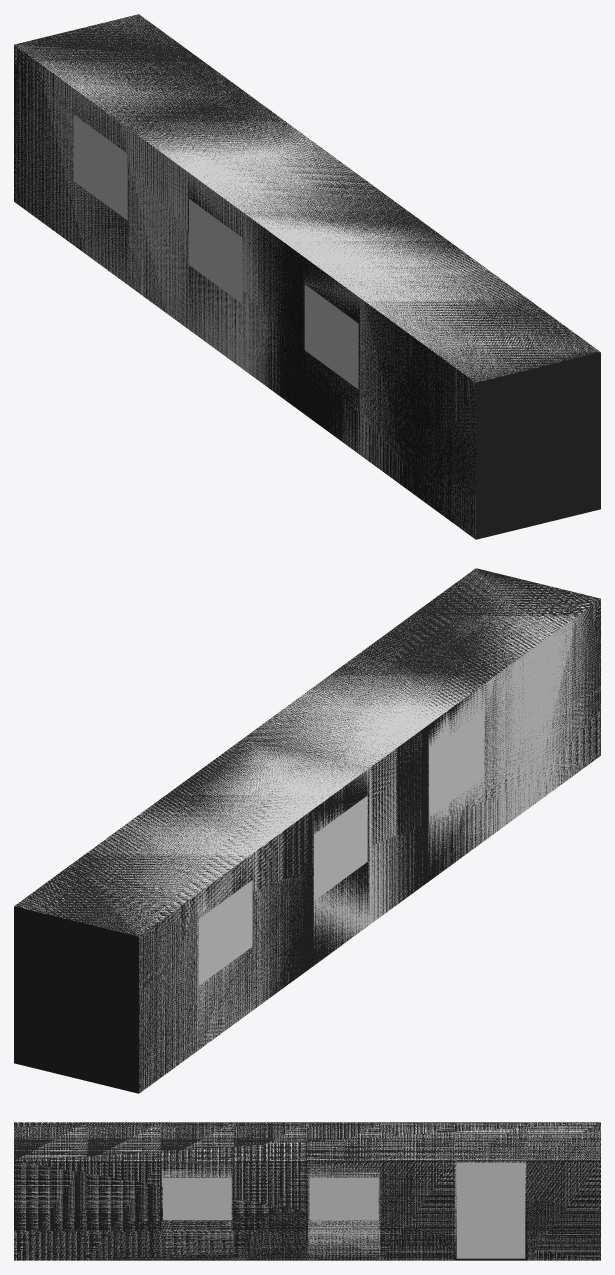
File: train.glb
3 renders of one model, top to bottom at view 1: azimuth 30°, elevation 25°; view 2: azimuth 150°, elevation 25°; view 3: azimuth 270°, elevation 25°, orthographic. The views are drawn at different scales.
Parts seen in each view (by area): view 1: vehicles/train, COL_hull, window.05, window.00, window.02; view 2: vehicles/train, COL_hull, window.00, window.02; view 3: vehicles/train, COL_hull, window.03, window.04.
Part boxes in pixels (x1,y1,x2,y2): vehicles/train: [14, 14, 600, 539]; COL_hull: [14, 15, 599, 538]; window.05: [304, 286, 358, 389]; window.00: [189, 199, 242, 302]; window.02: [73, 115, 127, 220]; vehicles/train: [14, 568, 600, 1093]; COL_hull: [14, 568, 600, 1093]; window.00: [314, 796, 367, 894]; window.02: [199, 881, 252, 980]; vehicles/train: [14, 1122, 600, 1260]; COL_hull: [14, 1122, 600, 1260]; window.03: [456, 1177, 525, 1258]; window.04: [163, 1178, 231, 1220].
Size of the model in its own units: 2.5 by 3 by 16.
Materials: 2 (2 with a texture image).
